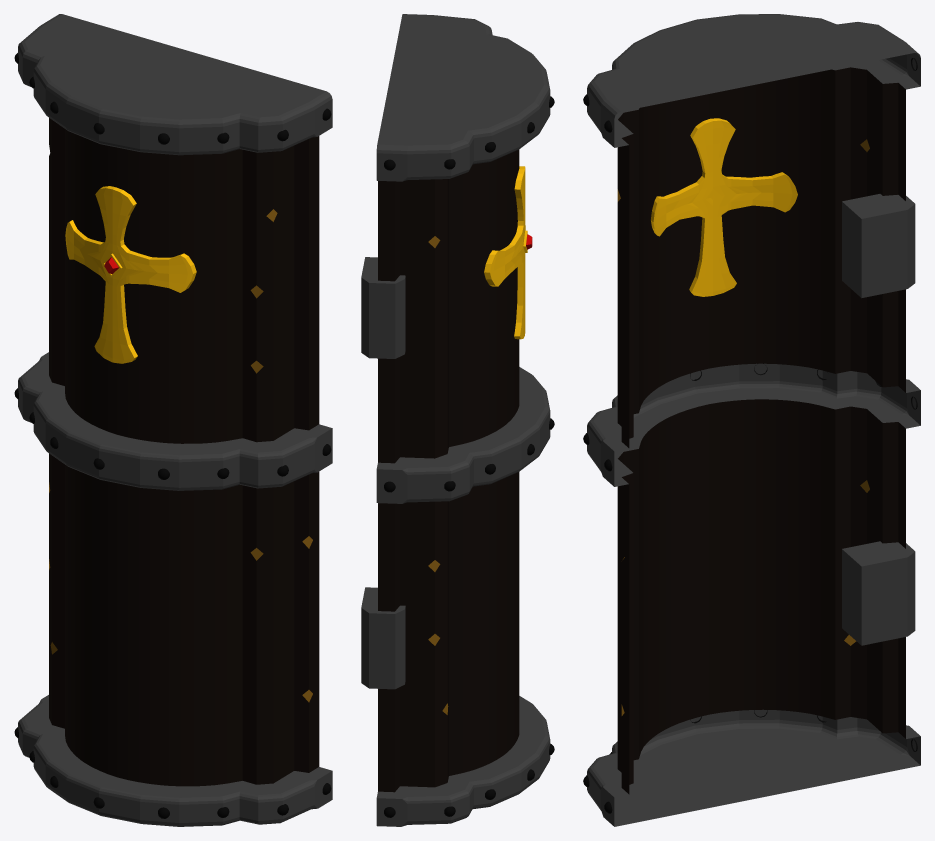
Rendered from Sarg_2_Deckel.obj.
3 renders of one model, left to right at view 1: azimuth 30°, elevation 25°; view 2: azimuth 150°, elevation 25°; view 3: azimuth 270°, elevation 25°, orthographic. The views are drawn at different scales.
Parts seen in each view (by area): view 1: Sarg_2_Lid; view 2: Sarg_2_Lid; view 3: Sarg_2_Lid.
Boxes of the visible parts, x1,y1,x2,y2 form: Sarg_2_Lid: (14, 14, 332, 826); Sarg_2_Lid: (361, 14, 554, 826); Sarg_2_Lid: (583, 14, 920, 826).
Bounding box in the file's own units: 0.7785 × 2.51 × 1.08.
